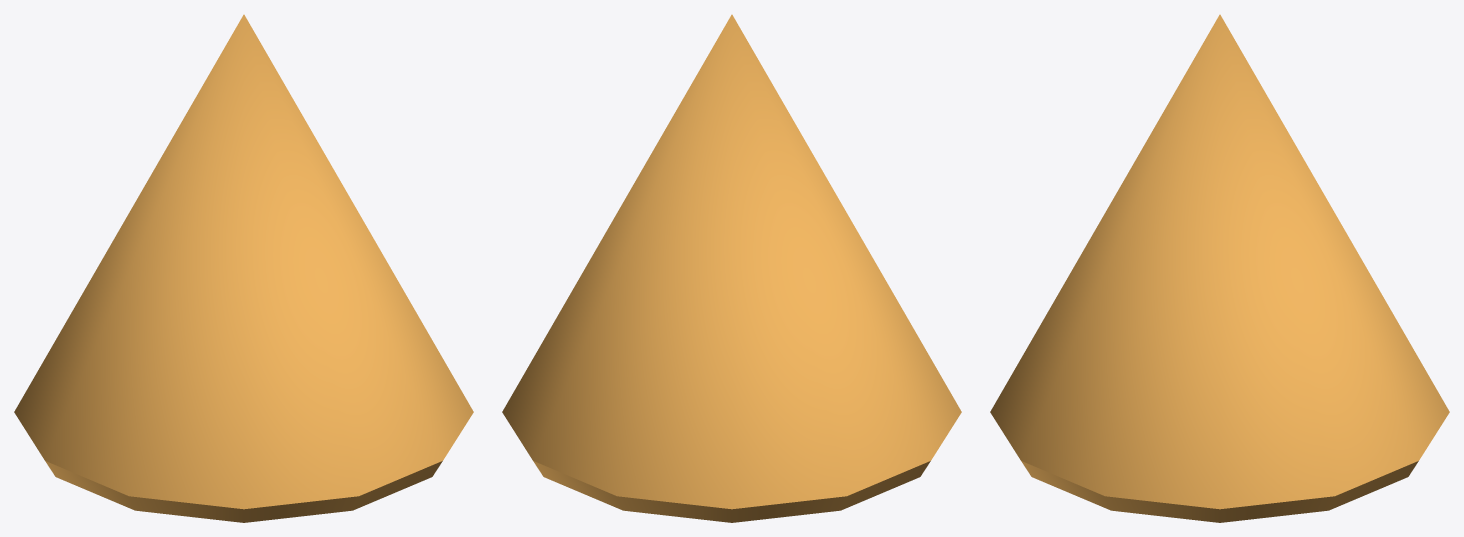
3 renders of one model, left to right at view 1: azimuth 30°, elevation 25°; view 2: azimuth 150°, elevation 25°; view 3: azimuth 270°, elevation 25°, orthographic.
Visible parts, largest first — view 1: Cone_02; view 2: Cone_02; view 3: Cone_02.
Boxes of the visible parts, box(x1,y1,x2,y2) form: Cone_02: box(14, 14, 473, 522); Cone_02: box(502, 14, 961, 522); Cone_02: box(990, 14, 1449, 522).
Size of the model in its own units: 301 by 301 by 301.
